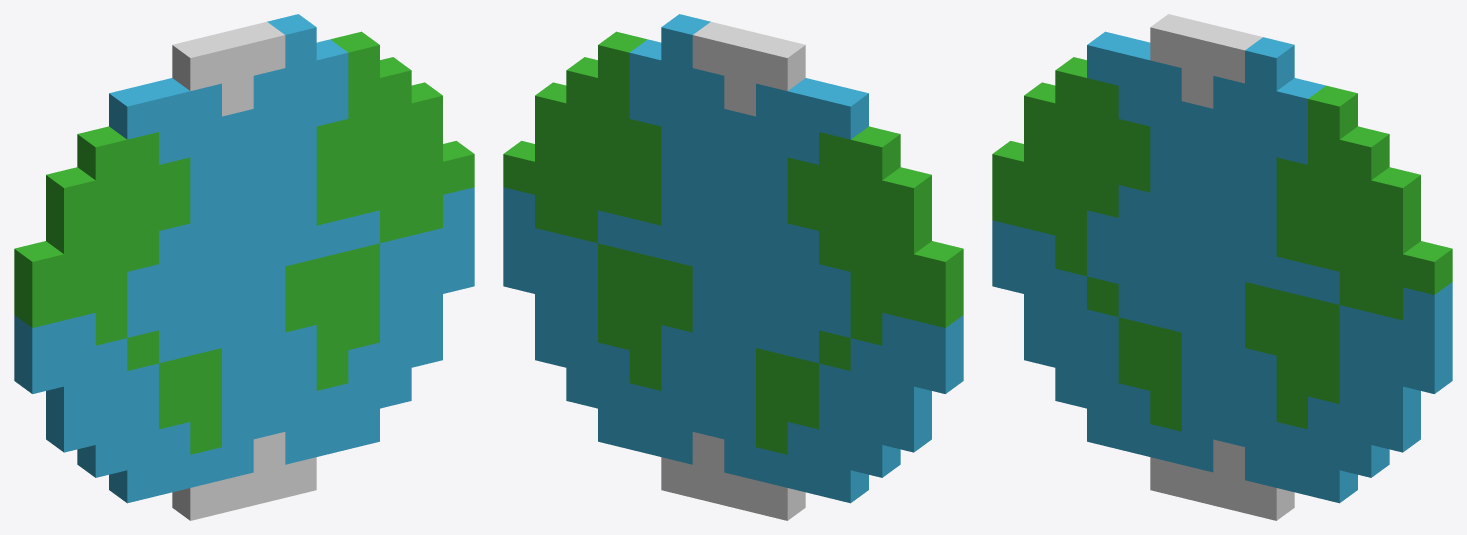
File: Earth.fbx
3 renders of one model, left to right at view 1: azimuth 30°, elevation 25°; view 2: azimuth 150°, elevation 25°; view 3: azimuth 330°, elevation 25°, orthographic.
Visible parts, largest first — view 1: Earth 2; view 2: Earth 2; view 3: Earth 2.
Boxes of the visible parts, x1=… form: Earth 2: x1=14, y1=14, x2=474, y2=520; Earth 2: x1=503, y1=14, x2=963, y2=520; Earth 2: x1=992, y1=14, x2=1452, y2=520.
Size of the model in its own units: 14 by 14 by 1.
